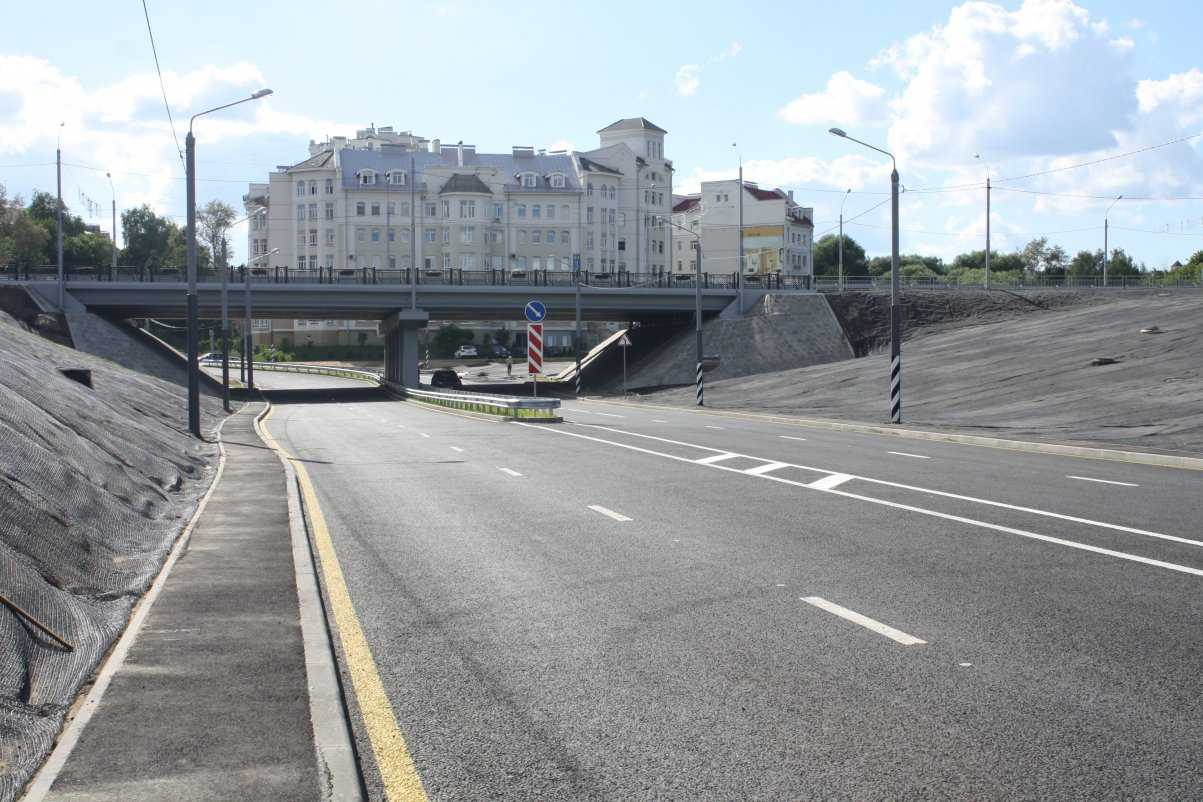sign: (524, 299, 549, 323)
